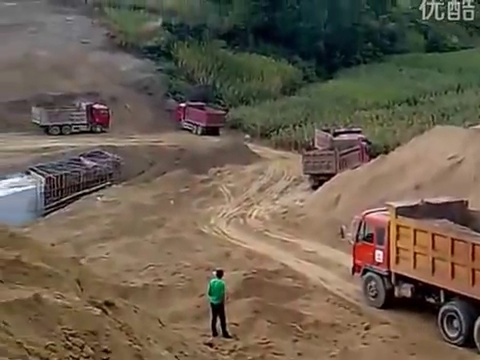person: (207, 269, 232, 337)
truck: (341, 196, 480, 352), (302, 127, 372, 188), (32, 99, 110, 135), (175, 100, 227, 136)
